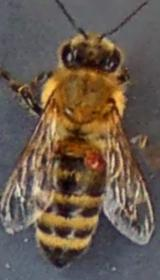varroa_mite: (72, 138, 114, 182)
